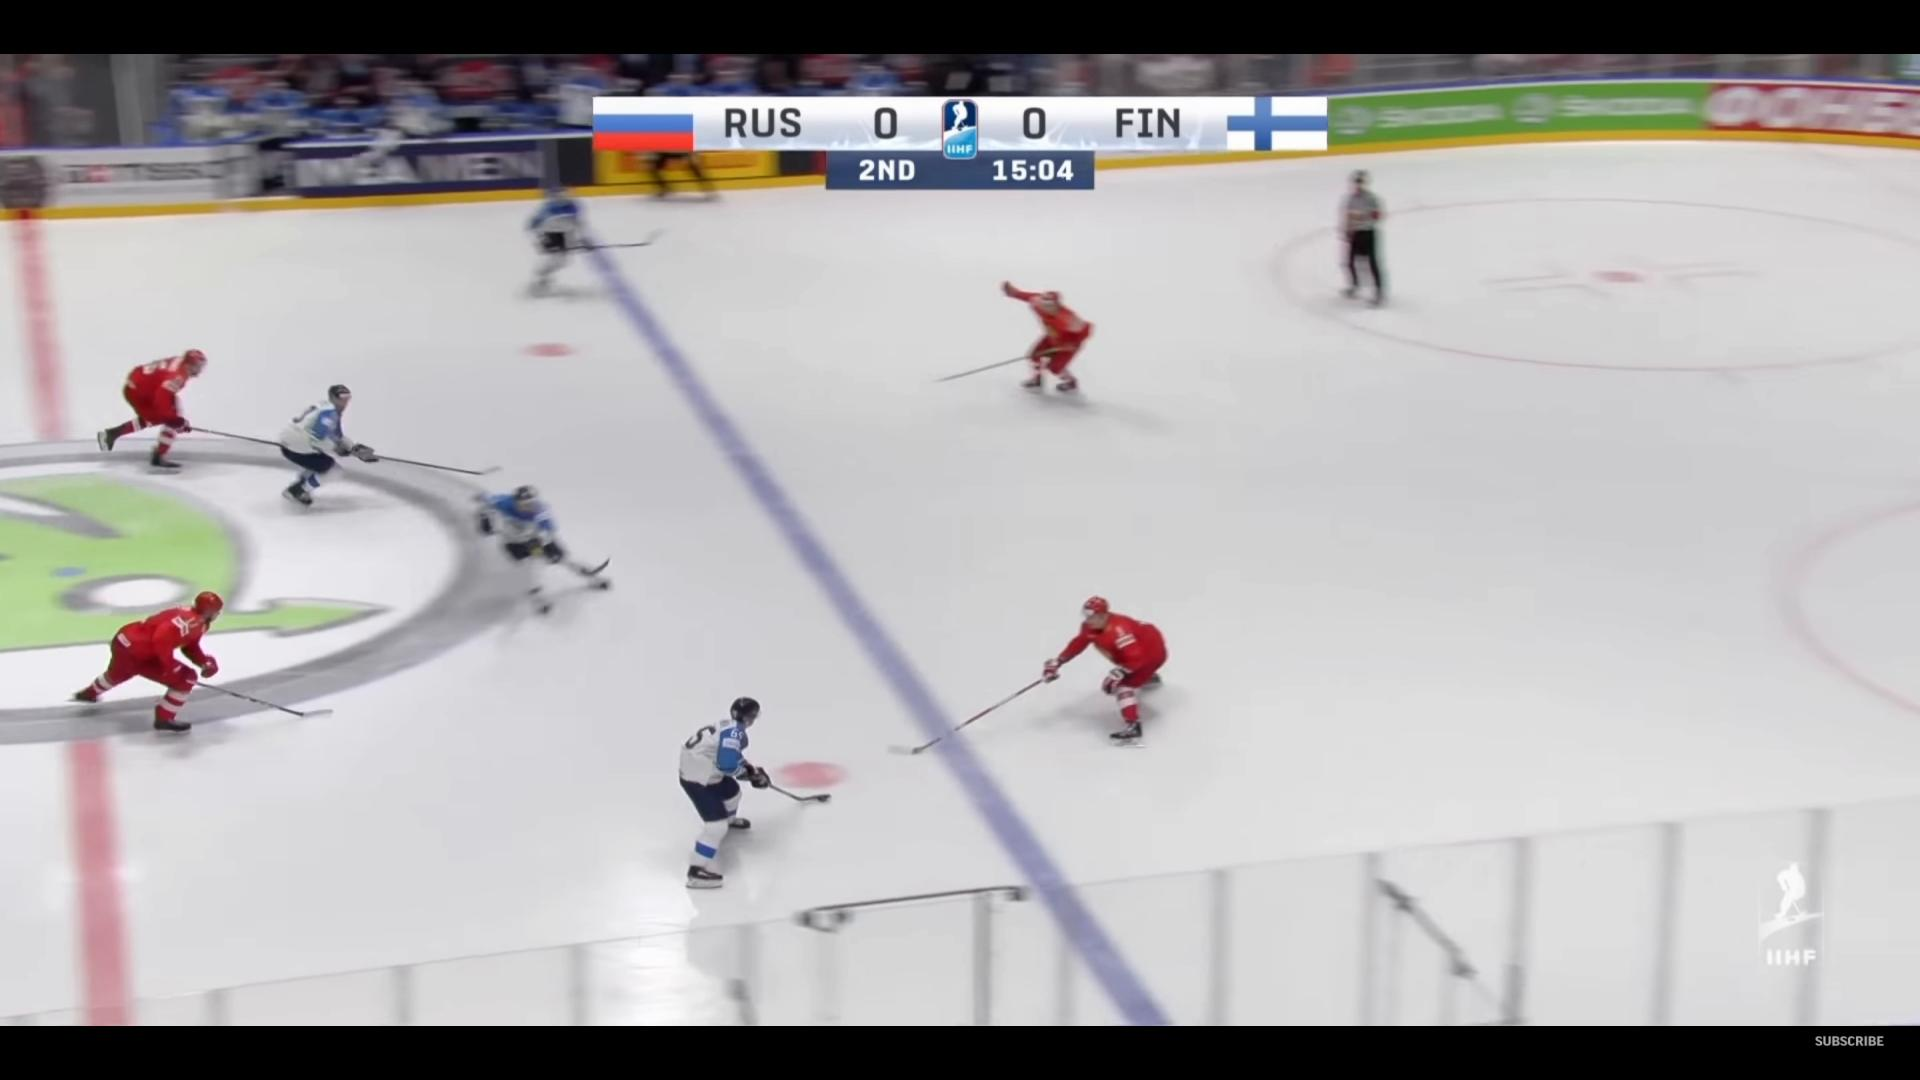puck: (816, 796, 827, 802)
